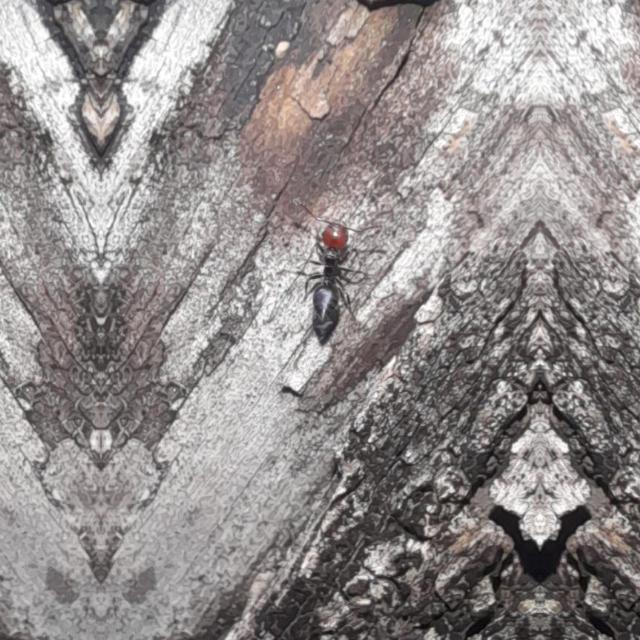Crematogaster: (295, 196, 357, 350)
